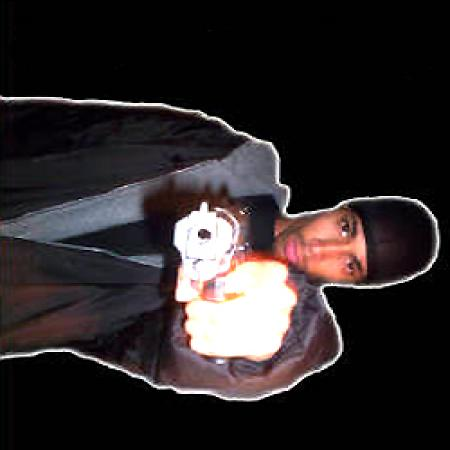Pistol: (162, 193, 277, 303)
